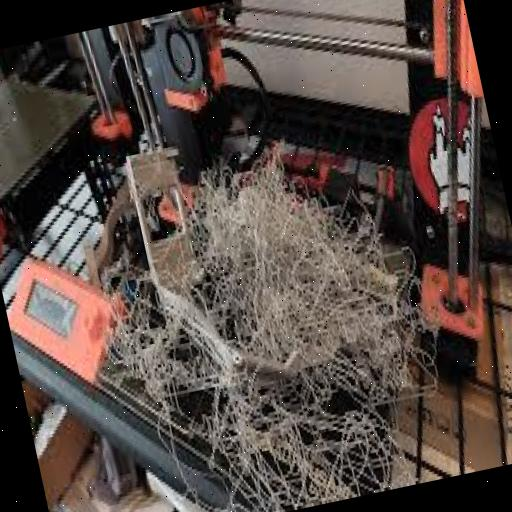spaghetti: (72, 120, 434, 502)
